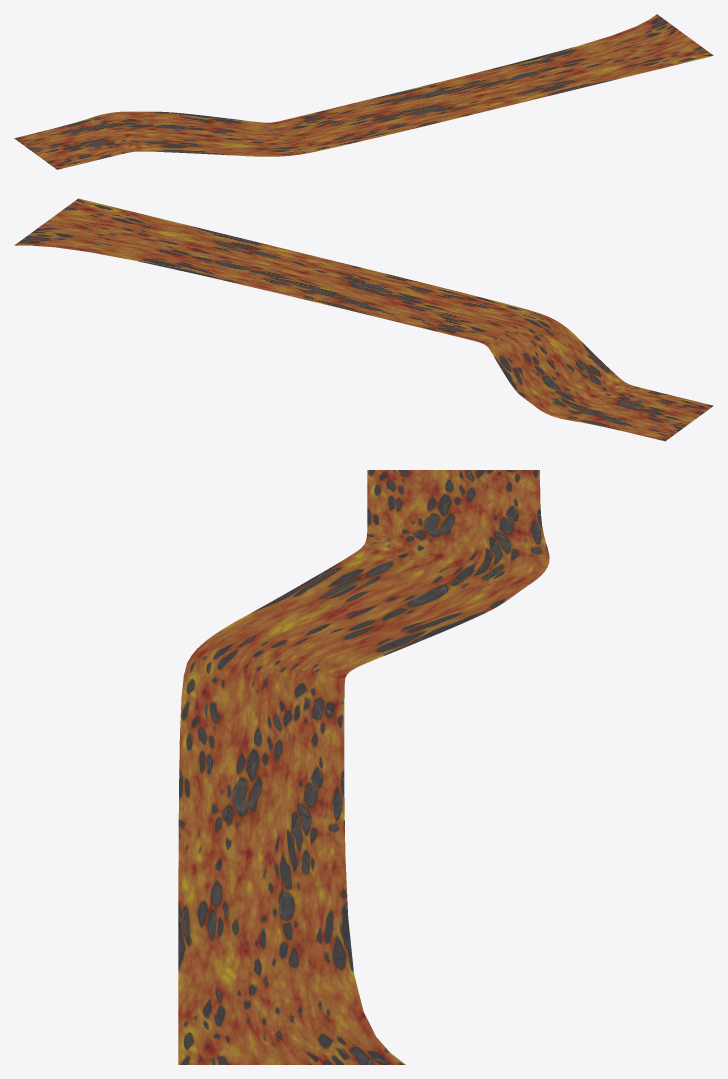
Rendered from RiverSouth.fbx.
The picture shows the model from 3 angles, top to bottom: view 1: azimuth 30°, elevation 25°; view 2: azimuth 150°, elevation 25°; view 3: azimuth 270°, elevation 25°; orthographic projection. The views are drawn at different scales.
Parts seen in each view (by area): view 1: RiverSouth; view 2: RiverSouth; view 3: RiverSouth.
Part boxes in pixels (box(x1,y1,x2,y2)): RiverSouth: box(14, 14, 713, 169); RiverSouth: box(14, 198, 713, 441); RiverSouth: box(178, 470, 549, 1064).
Size of the model in its own units: 111 by 1.78e-15 by 29.2.
